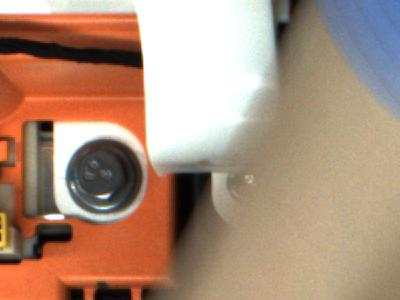nut_b: (57, 139, 149, 219)
